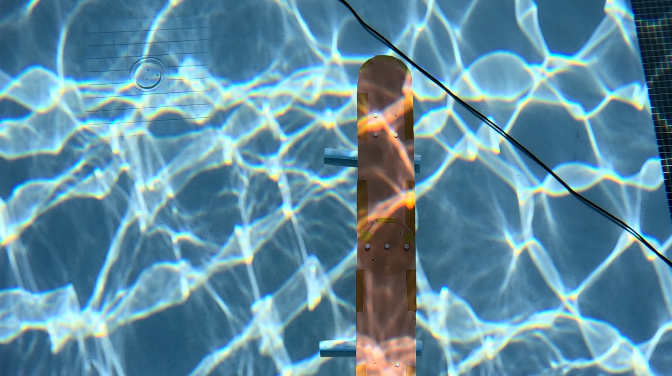pathmarker: (356, 55, 414, 375)
